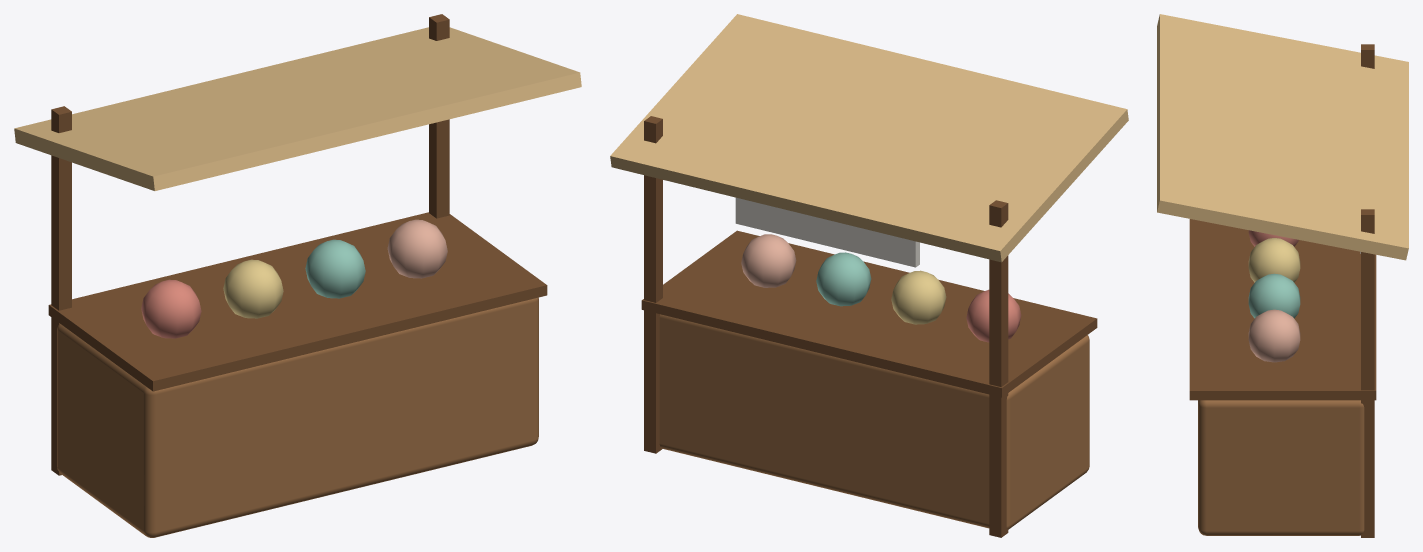
The model's file is prop_district_shop_ph.glb.
3 renders of one model, left to right at view 1: azimuth 30°, elevation 25°; view 2: azimuth 150°, elevation 25°; view 3: azimuth 270°, elevation 25°, orthographic. The views are drawn at different scales.
Parts seen in each view (by area): view 1: prop_district_shop; view 2: prop_district_shop; view 3: prop_district_shop.
Boxes of the visible parts, box(x1,y1,x2,y2) form: prop_district_shop: box(14, 14, 581, 537); prop_district_shop: box(610, 14, 1128, 537); prop_district_shop: box(1157, 14, 1408, 537).
Bounding box in the file's own units: 2.6 × 2.25 × 1.48.
